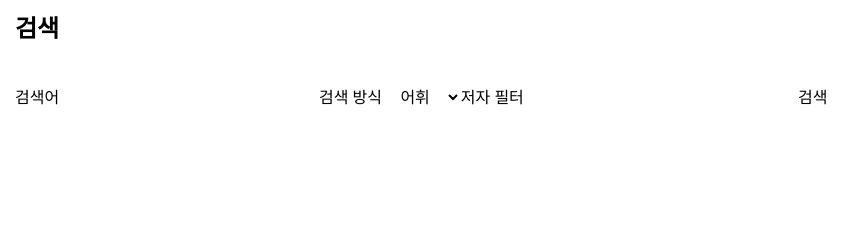
Scenario: U3 discovery surface › surfaces a snapshot-expired refusal without clearing the query
In the field with test id "search-query": (189, 98) [59,66,319,129], type "attention"
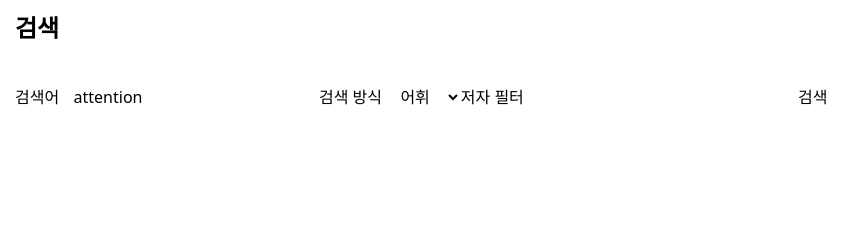
Click the button with test id "search-submit": (813, 98) [784,76,842,120]
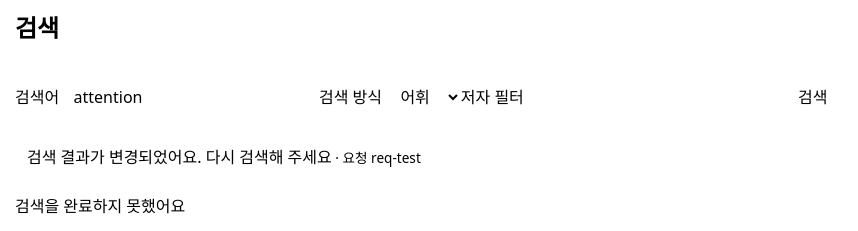
Result: the message with test id "status-line" shows "검색 결과가 변경되었어요" at [27,146,332,168]
